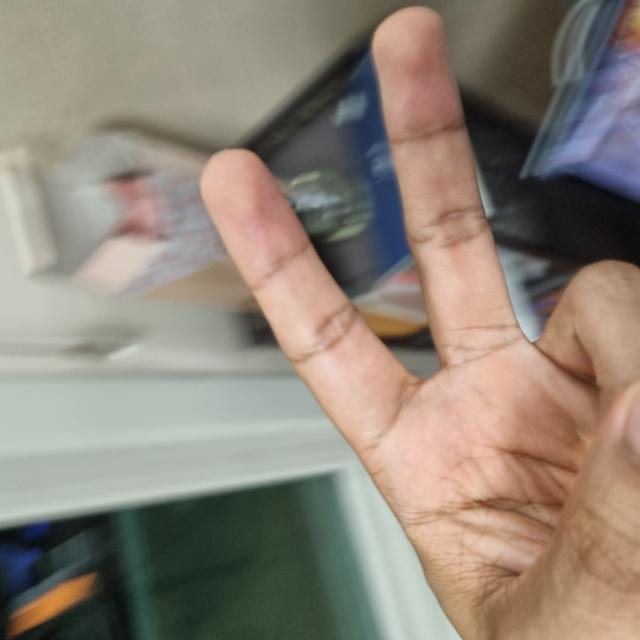Scissors: (0, 202, 630, 639)
